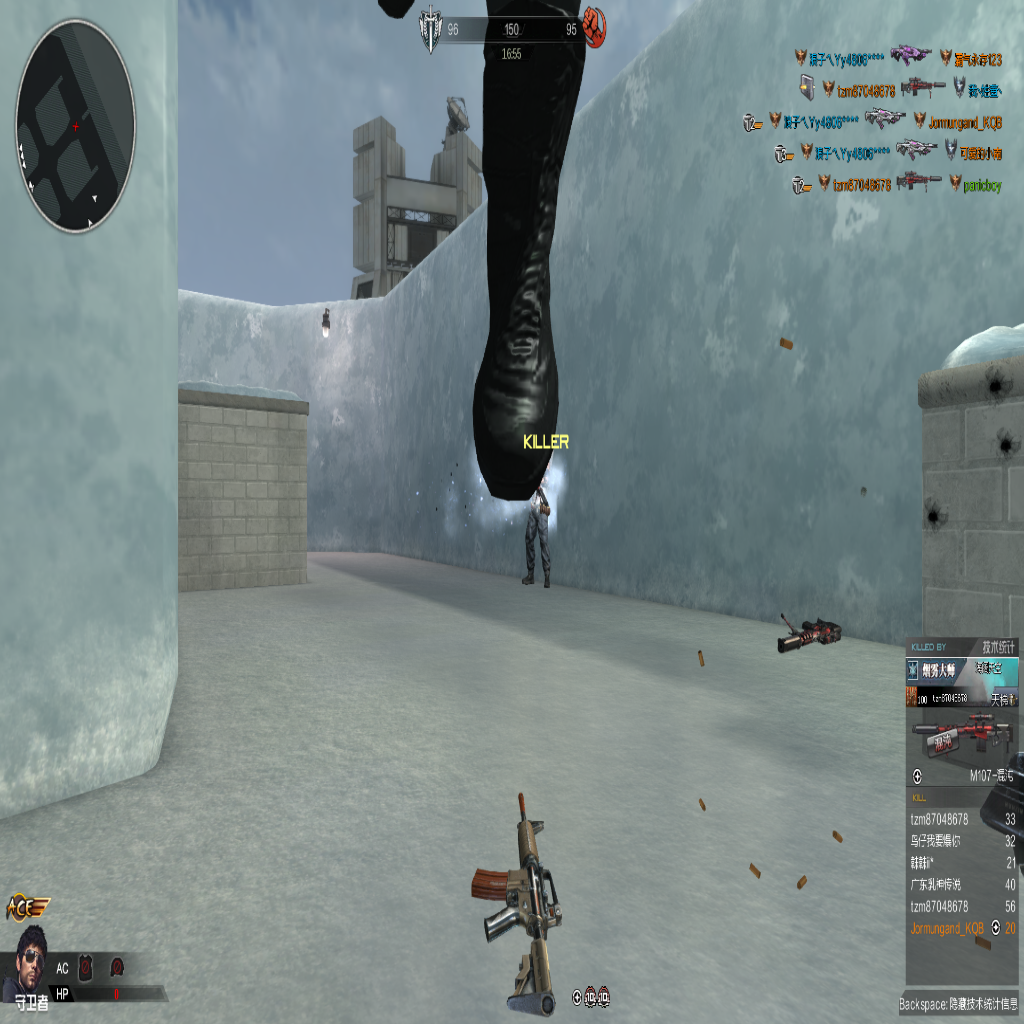tt: (522, 466, 552, 593)
